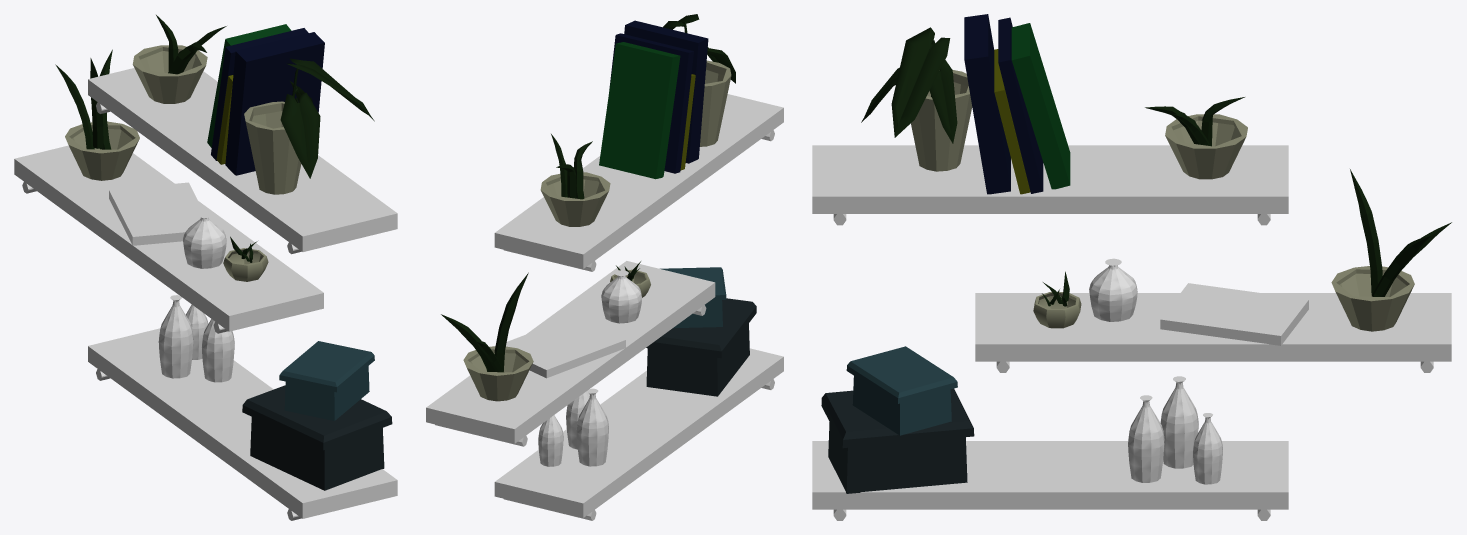
File: shelf (2).fbx
3 renders of one model, left to right at view 1: azimuth 30°, elevation 25°; view 2: azimuth 150°, elevation 25°; view 3: azimuth 270°, elevation 25°, orthographic. The views are drawn at different scales.
Parts seen in each view (by area): view 1: Bookshelf.007, Bookshelf.008, Bookshelf.009, Bookshelf.003, Bookshelf.004, Bookshelf.006, Bookshelf.018, Bookshelf.005, Bookshelf.015, Bookshelf.014, Bookshelf.016, Bookshelf.013 (+2 smaller); view 2: Bookshelf.009, Bookshelf.004, Bookshelf.008, Bookshelf.007, Bookshelf.003, Bookshelf.018, Bookshelf.005, Bookshelf.015, Bookshelf.006, Bookshelf.014, Bookshelf.016, Bookshelf.001 (+2 smaller); view 3: Bookshelf.007, Bookshelf.009, Bookshelf.008, Bookshelf.003, Bookshelf.004, Bookshelf.006, Bookshelf.018, Bookshelf.005, Bookshelf.015, Bookshelf.014, Bookshelf.013, Bookshelf.016 (+2 smaller).
Part boxes in pixels (x1,y1,x2,y2): Bookshelf.007: (88, 68, 397, 251); Bookshelf.008: (14, 145, 323, 331); Bookshelf.009: (88, 328, 397, 518); Bookshelf.003: (242, 341, 392, 490); Bookshelf.004: (207, 24, 324, 175); Bookshelf.006: (244, 58, 374, 194); Bookshelf.018: (109, 182, 203, 245); Bookshelf.005: (55, 49, 139, 180); Bookshelf.015: (132, 15, 226, 103); Bookshelf.014: (158, 295, 193, 378); Bookshelf.016: (183, 211, 226, 268); Bookshelf.013: (202, 319, 234, 382); Bookshelf.009: (494, 348, 783, 517); Bookshelf.004: (599, 20, 708, 179); Bookshelf.008: (426, 261, 715, 443); Bookshelf.007: (494, 94, 783, 268); Bookshelf.003: (646, 267, 756, 396); Bookshelf.018: (506, 316, 625, 378); Bookshelf.005: (441, 272, 533, 401); Bookshelf.015: (540, 134, 610, 226); Bookshelf.006: (663, 14, 735, 146); Bookshelf.014: (576, 388, 608, 466); Bookshelf.016: (601, 270, 642, 323); Bookshelf.001: (538, 415, 563, 466); Bookshelf.007: (812, 145, 1288, 213); Bookshelf.009: (812, 441, 1288, 509); Bookshelf.008: (975, 293, 1451, 361); Bookshelf.003: (821, 346, 974, 493); Bookshelf.004: (964, 14, 1070, 194); Bookshelf.006: (861, 27, 972, 171); Bookshelf.018: (1160, 283, 1308, 345); Bookshelf.005: (1331, 169, 1451, 331); Bookshelf.015: (1145, 97, 1247, 179); Bookshelf.014: (1160, 376, 1198, 468); Bookshelf.013: (1128, 395, 1164, 482); Bookshelf.016: (1089, 258, 1137, 321).
Size of the model in its own units: 87.27 by 313 by 393.
